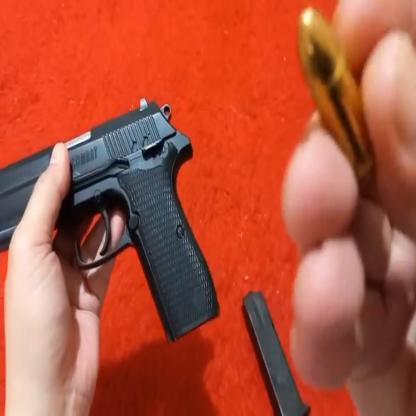handgun: (0, 91, 221, 351)
